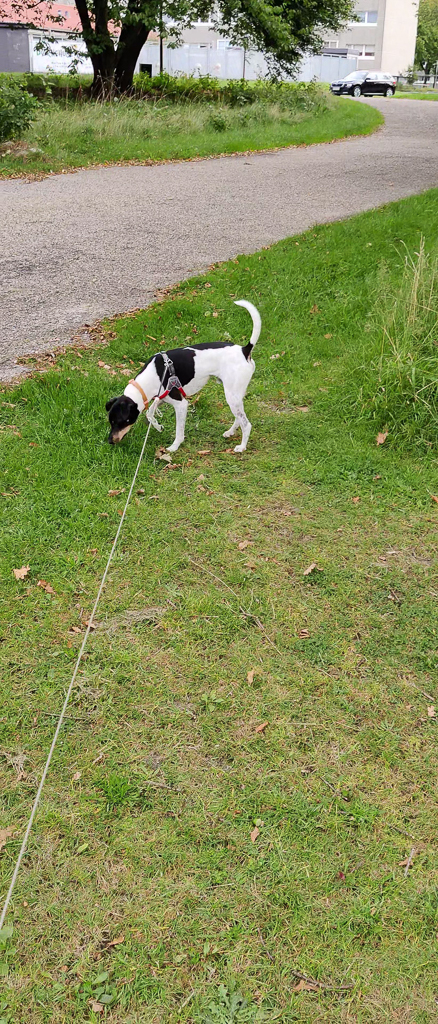Dog: (87, 292, 273, 465)
